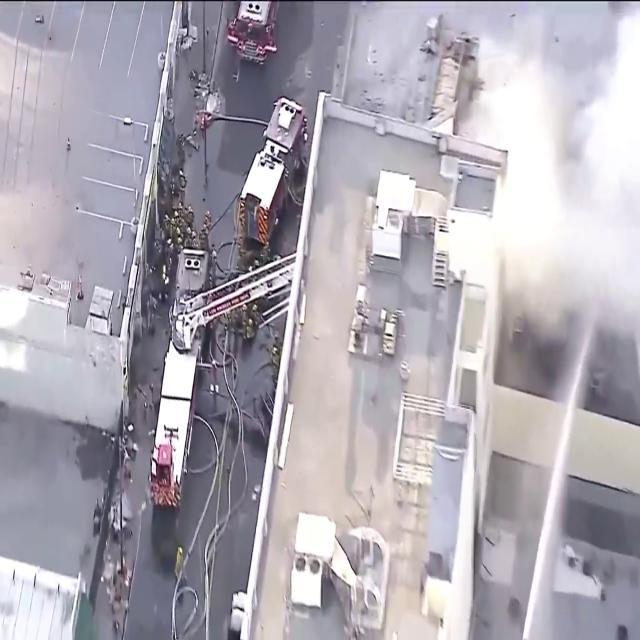Smoke: (417, 10, 640, 427)
